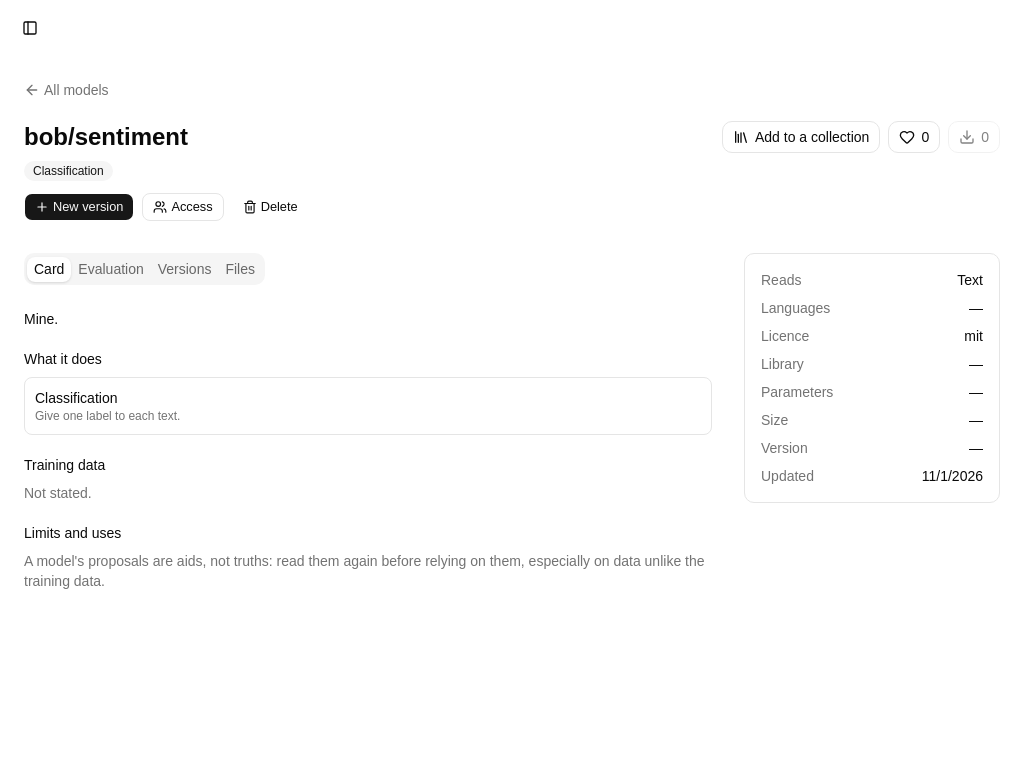
Test case: gives an interrupted upload up: what arrived is thrown away and nothing is kept in the browser
This screenshot has width=1024, height=768.
Click the button "New version".
click(79, 207)  # box x1=24 y1=193 x2=134 y2=221
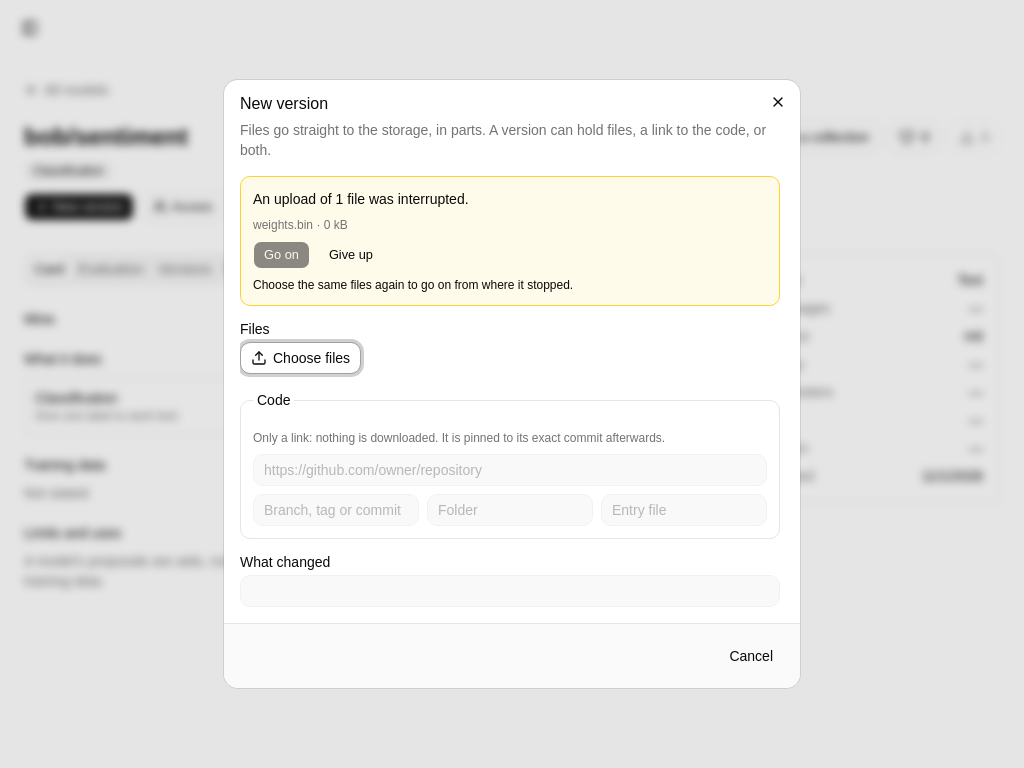
Click the button "Give up".
click(351, 255)  # box x1=318 y1=241 x2=384 y2=269
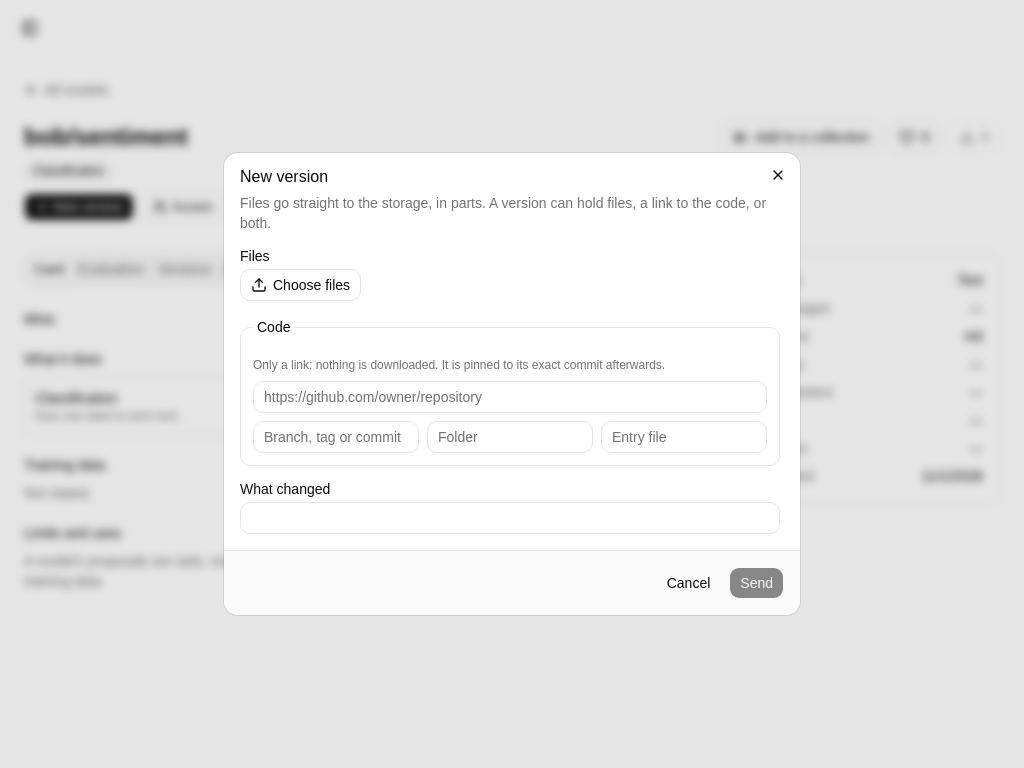
Expected: the text "was interrupted" is gone
